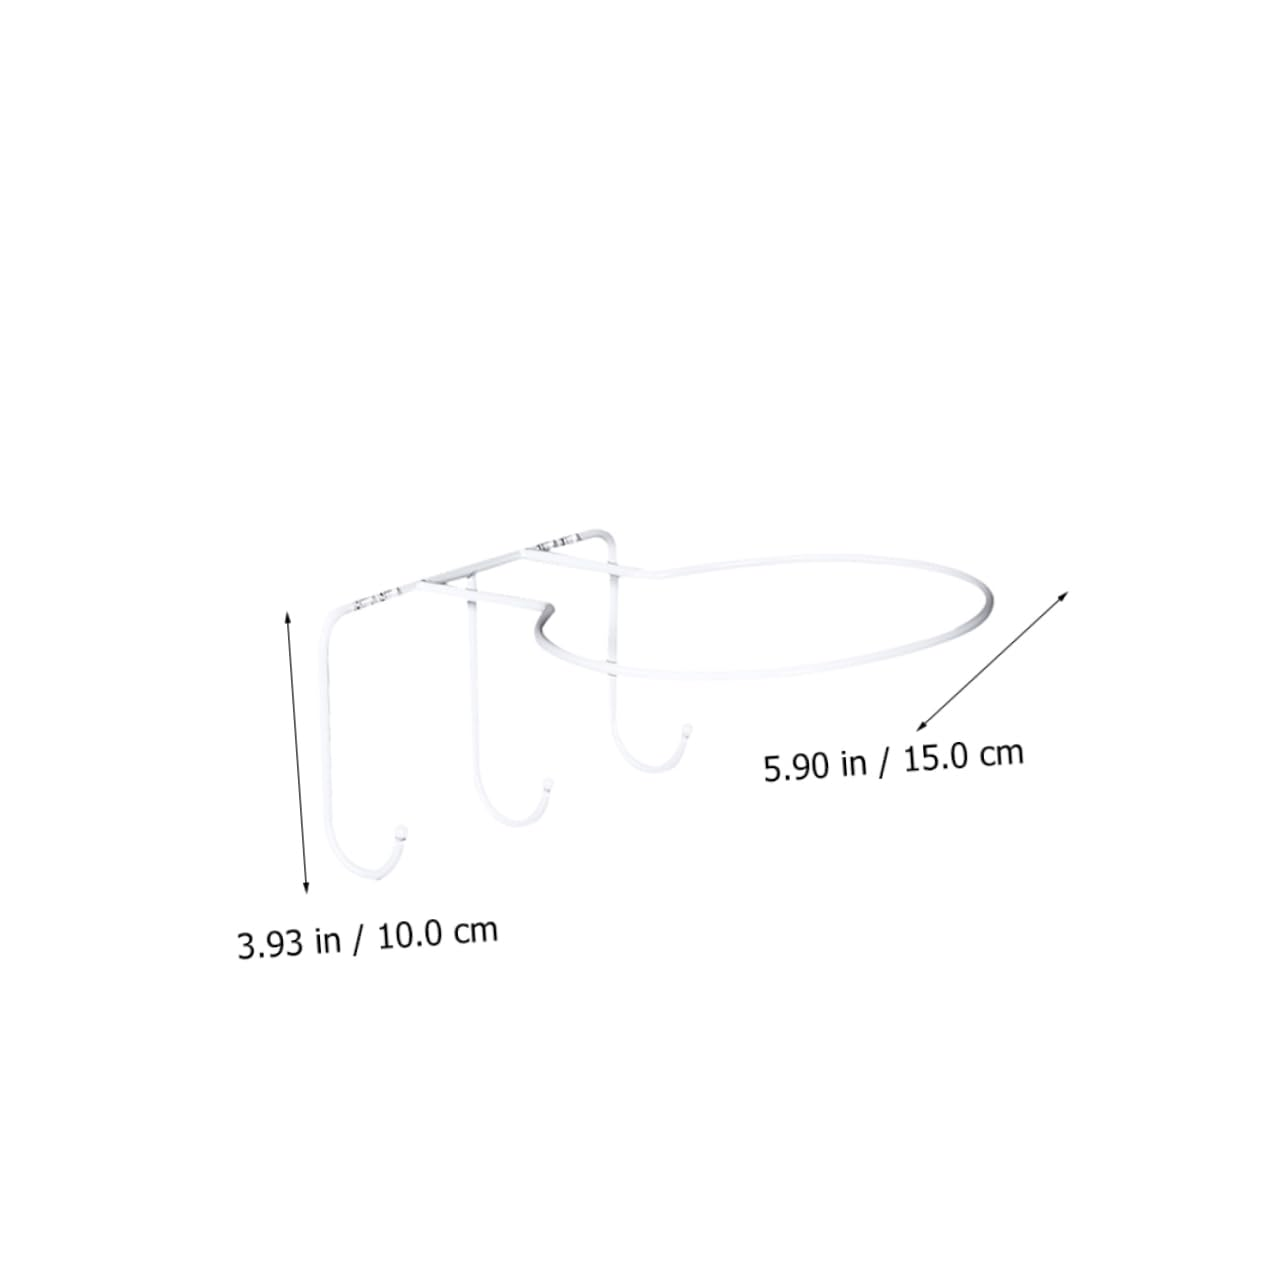/: (353, 924, 362, 956)
10.0: (379, 919, 441, 949)
15.0: (904, 743, 967, 772)
3.93: (238, 929, 301, 960)
5.90: (765, 752, 828, 782)
cm: (454, 921, 497, 944), (980, 744, 1023, 766)
in: (316, 928, 340, 954)
